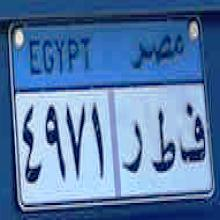1: (90, 102, 104, 182)
4: (18, 98, 42, 186)
7: (65, 99, 86, 184)
9: (42, 103, 66, 185)
Taa: (150, 104, 178, 181)
faa: (178, 96, 206, 167)
raa: (119, 116, 144, 180)
